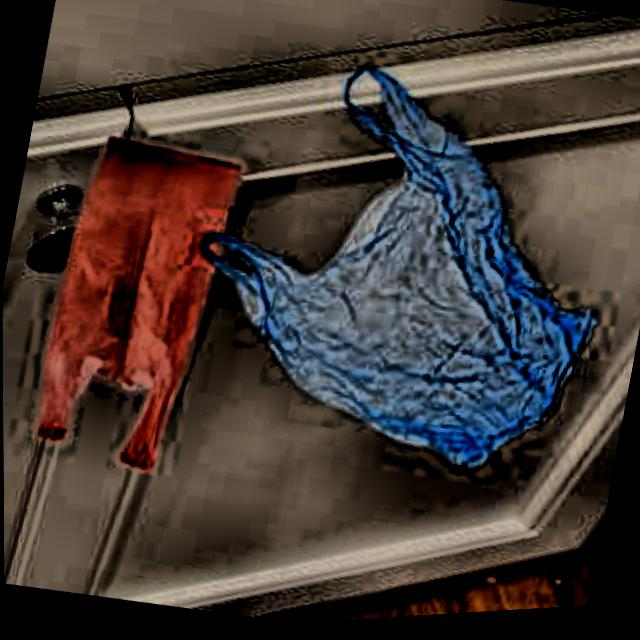Plastic: (159, 15, 640, 520), (14, 116, 254, 497)
